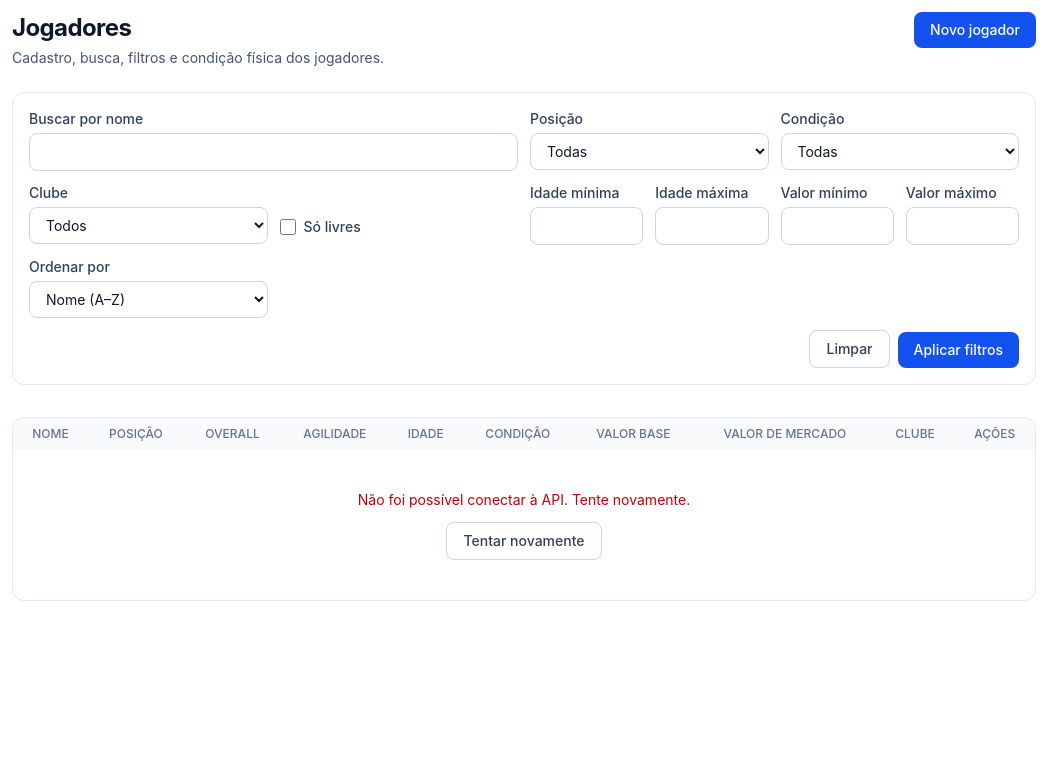
PlayersPage › shows the error state and loads again on retry
The width and height of the screenshot is (1048, 780).
Expected: the message shows "Não foi possível conectar à API.", top-left (358, 491), bottom-right (690, 508)
Click the button "Tentar novamente" at [524, 541], box top-left (446, 522), bottom-right (602, 560)
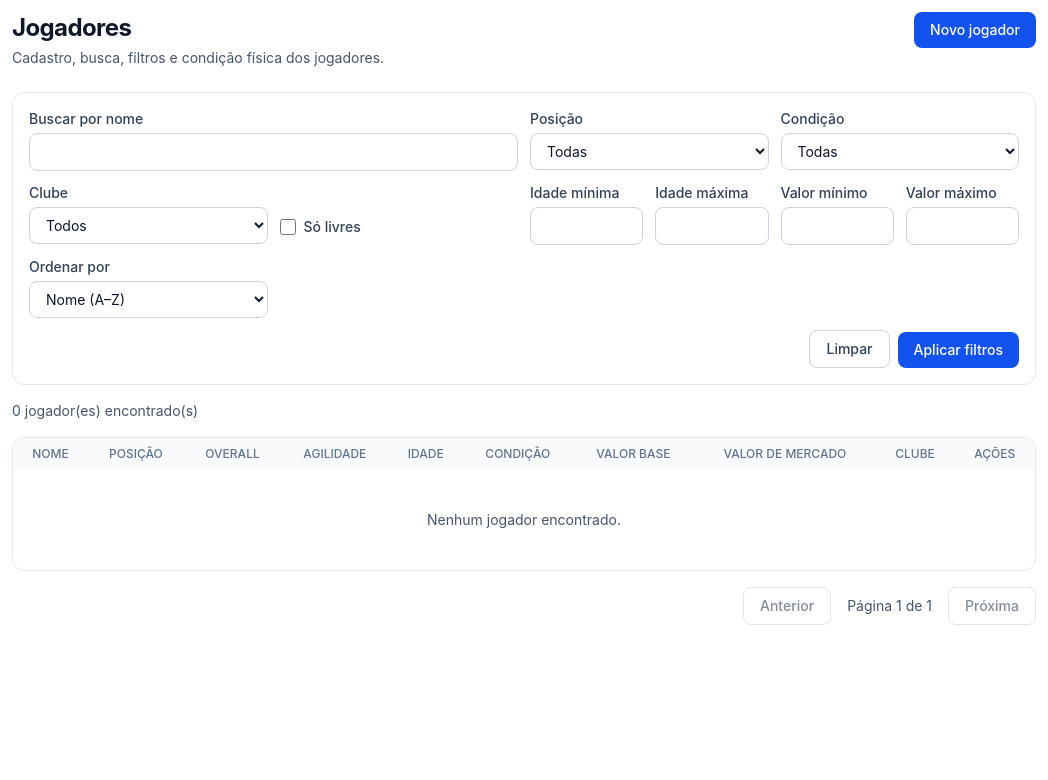
Now the text "Nenhum jogador encontrado." is shown, box top-left (427, 511), bottom-right (621, 528)
